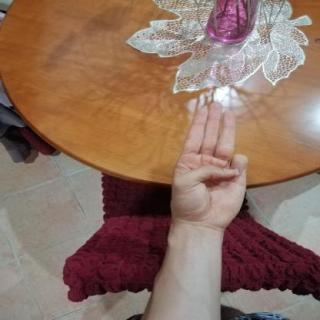THA: (162, 94, 256, 233)
